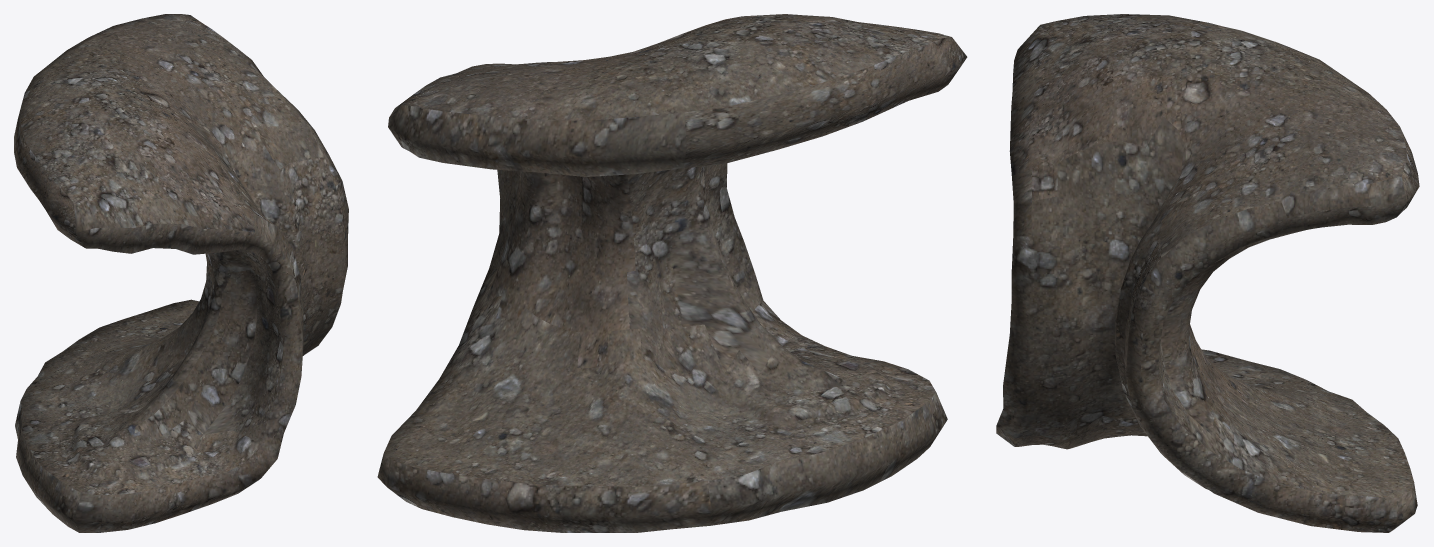
Rendered from cave_modules_corner_convex_1.dae.
The picture shows the model from 3 angles, left to right: view 1: azimuth 30°, elevation 25°; view 2: azimuth 150°, elevation 25°; view 3: azimuth 270°, elevation 25°; orthographic projection. The views are drawn at different scales.
Visible parts, largest first — view 1: corner_convex_1; view 2: corner_convex_1; view 3: corner_convex_1.
Part boxes in pixels (x1,y1,x2,y2): corner_convex_1: (14, 14, 348, 532); corner_convex_1: (377, 14, 967, 532); corner_convex_1: (996, 14, 1419, 532).
Size of what is drawn, in the model's own units: 8.21 by 8.88 by 8.37.
